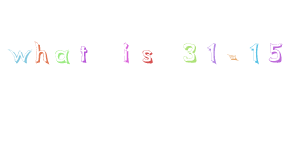-: (221, 49, 245, 68)
1: (202, 38, 224, 69), (243, 39, 267, 67)
3: (176, 37, 202, 68)
5: (264, 38, 291, 67)
a: (53, 44, 75, 68)
h: (32, 38, 52, 67)
i: (113, 39, 138, 67)
s: (137, 45, 161, 67)
t: (75, 39, 95, 68)
w: (4, 41, 33, 68)
